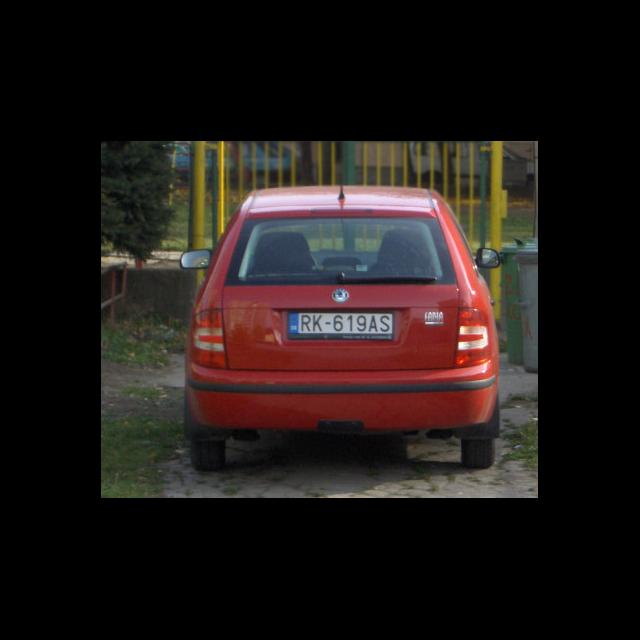Plate: (286, 310, 396, 340)
